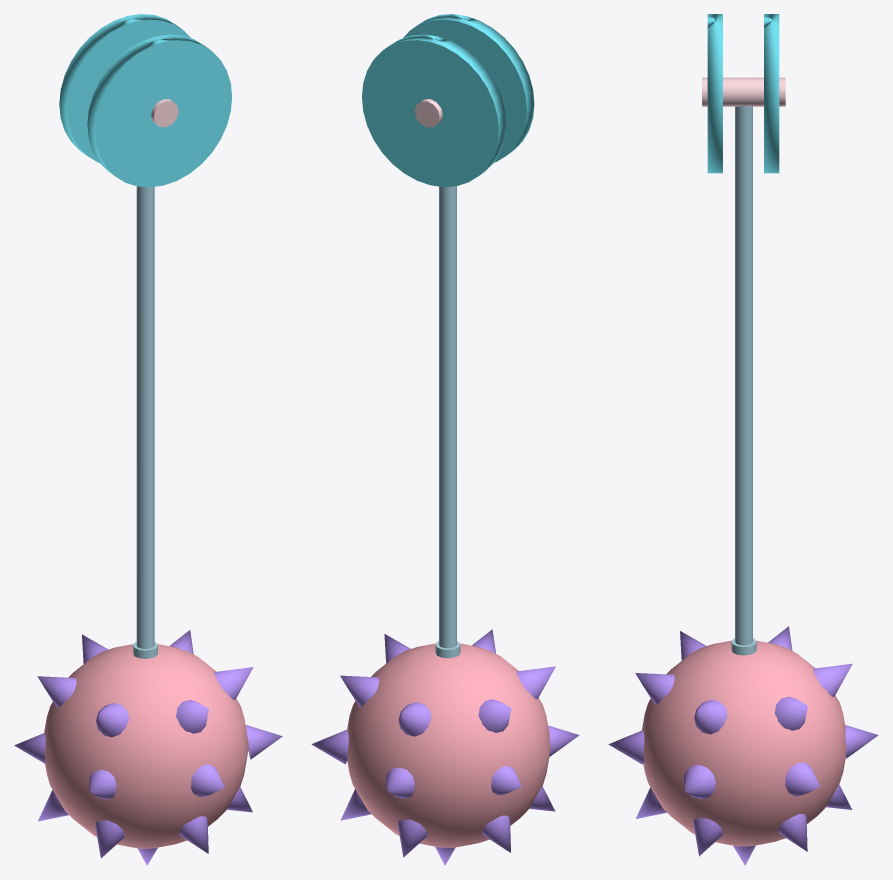
The model's file is Mace.fbx.
3 views of the same model, side by side, from view 1: azimuth 30°, elevation 25°; view 2: azimuth 150°, elevation 25°; view 3: azimuth 270°, elevation 25° (orthographic).
Parts seen in each view (by area): view 1: Mace; view 2: Mace; view 3: Mace.
Boxes of the visible parts, x1,y1,x2,y2 form: Mace: (14,14,282,865); Mace: (311,14,579,865); Mace: (608,14,878,865).
Size of the model in its own units: 113 by 430 by 125.
